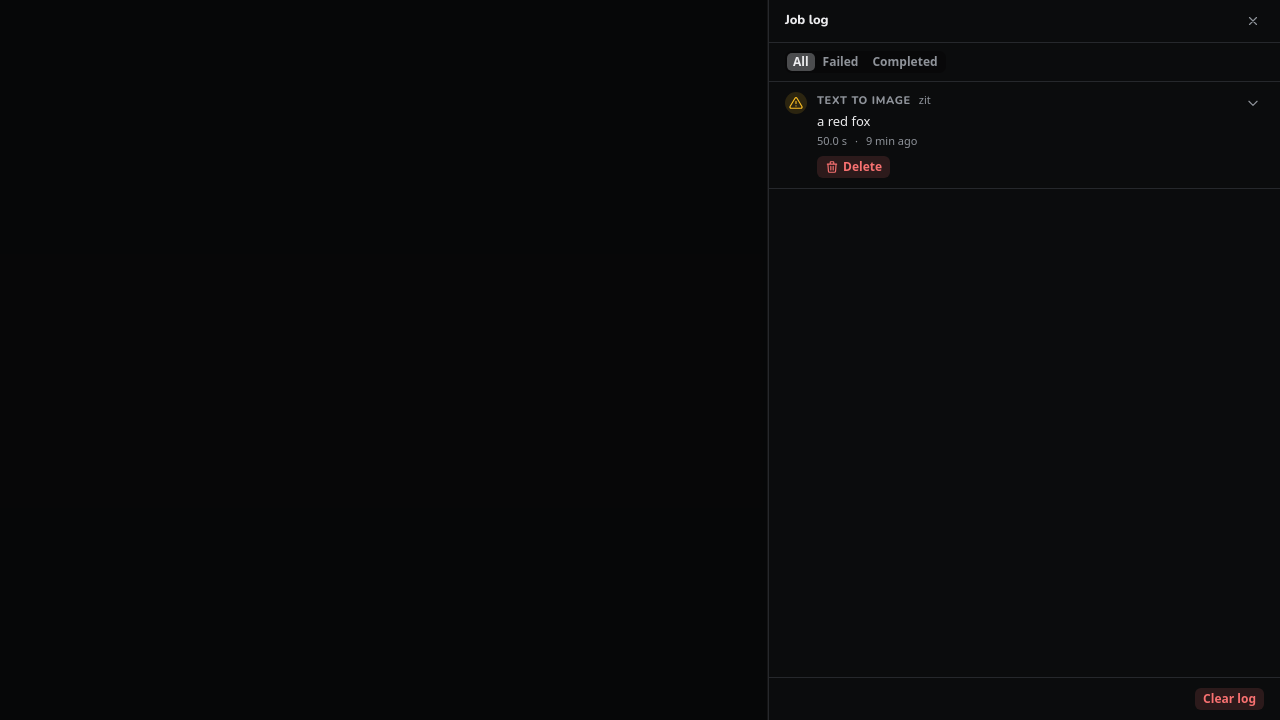
Test: JobLogDrawer › shows how many runs of a job failed
Click the button named "Show details": (1253, 103) 1242,92 -> 1264,114
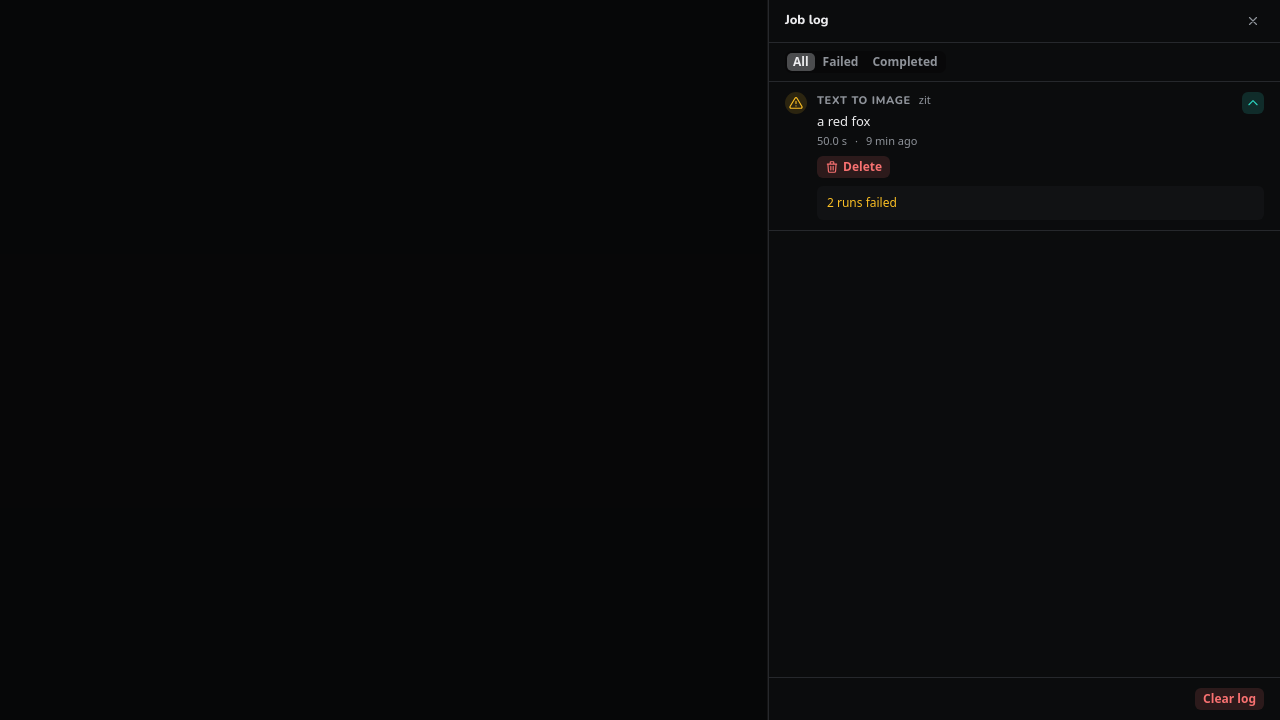
Now the element with test id "job-log-detail" reads "2 runs failed", box 827,194 -> 897,210
